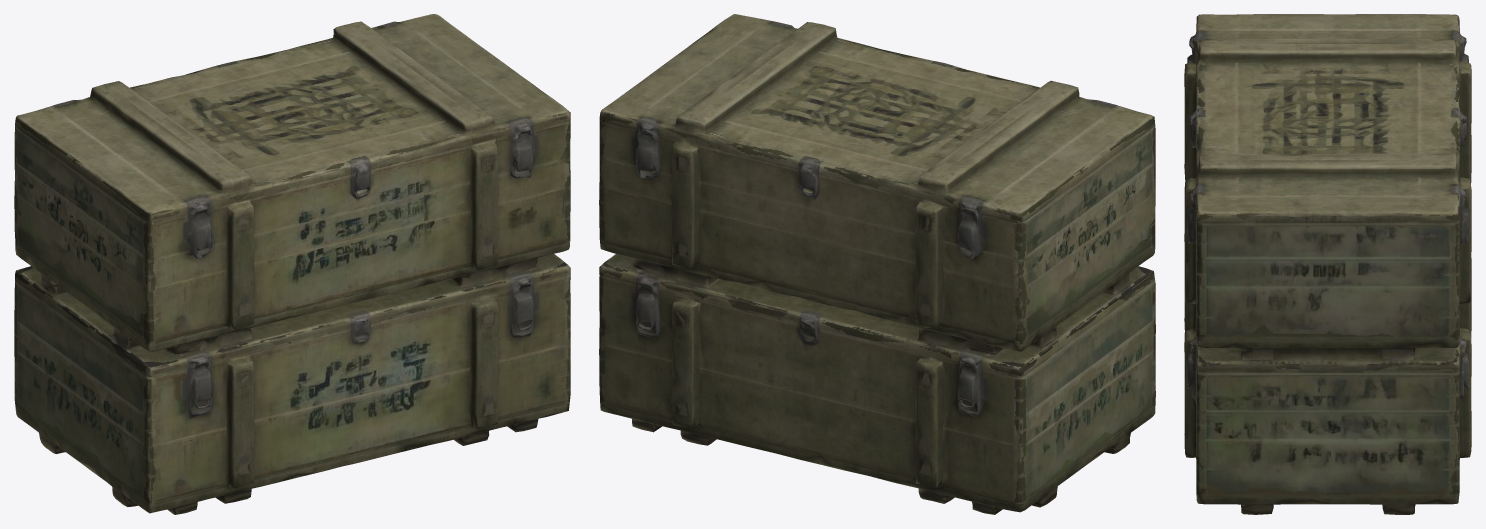
The model's file is prop_crate.glb.
The picture shows the model from 3 angles, left to right: view 1: azimuth 30°, elevation 25°; view 2: azimuth 150°, elevation 25°; view 3: azimuth 270°, elevation 25°; orthographic projection. The views are drawn at different scales.
Bounding box in the file's own units: 0.9979 × 0.7292 × 0.6017.
1 material, 1 textured.
